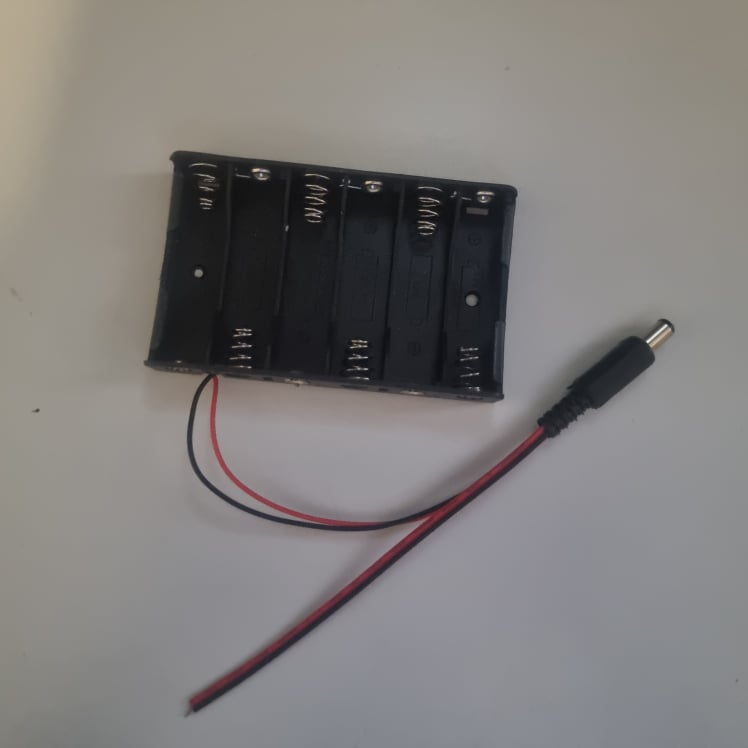BATTERY BOX: (137, 149, 519, 406)
